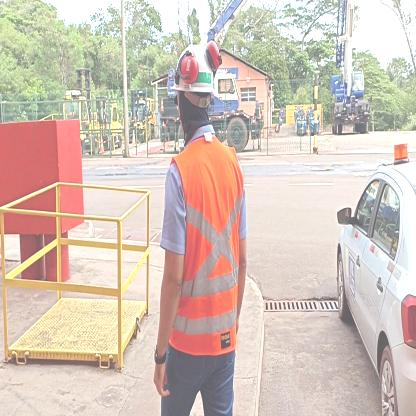Balaclava: (178, 97, 209, 141)
Capacete: (173, 42, 220, 98)
colete: (172, 148, 240, 352)
